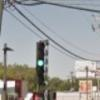traffic lights: (37, 41, 45, 86)
